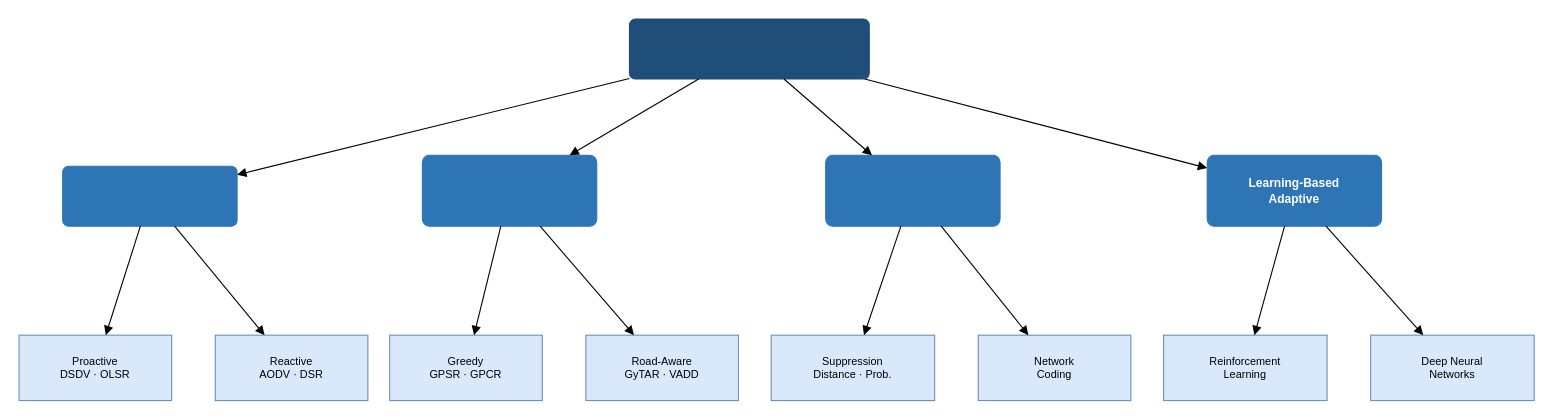
This 1553x420 diagram has some shape labels left out. The box of each missing label's shape, as (x1, y1, x2, y2) in pixels:
Broadcast & Geocast: (825, 154, 1000, 226)
Geographic / Position-Based: (421, 154, 597, 226)
Topology-Based: (62, 165, 237, 226)
Vehicular Routing Protocols: (628, 18, 869, 79)
